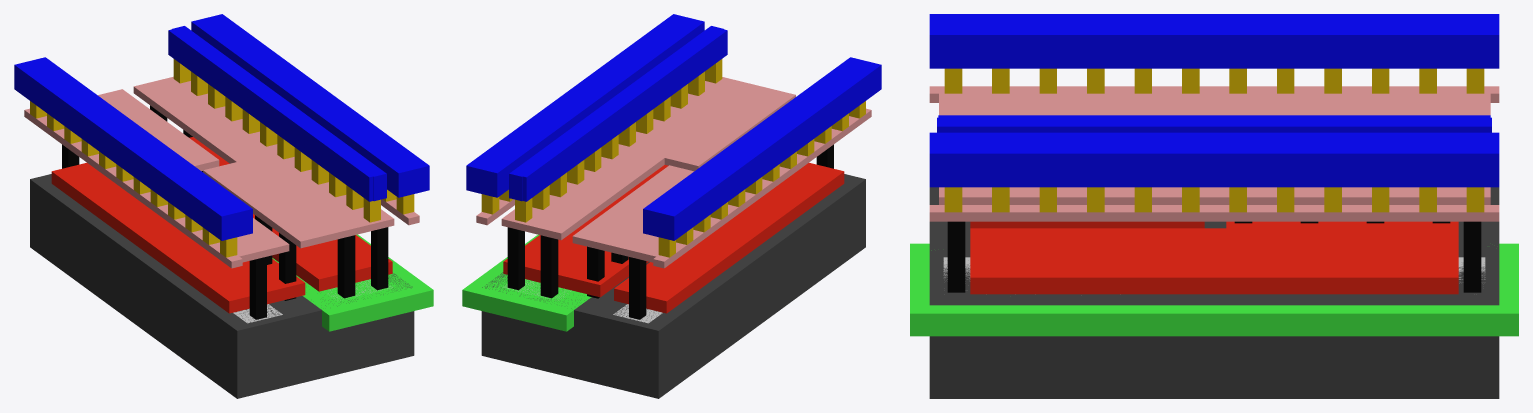
Rendered from sky130_fd_sc_hd__lpflow_decapkapwr_12.obj.
3 renders of one model, left to right at view 1: azimuth 30°, elevation 25°; view 2: azimuth 150°, elevation 25°; view 3: azimuth 270°, elevation 25°, orthographic. The views are drawn at different scales.
Visible parts, largest first — view 1: metal1, subs, li, poly, mcon, licon, nwell; view 2: metal1, subs, li, poly, mcon, nwell, licon; view 3: metal1, subs, poly, li, nwell, mcon, licon.
Part boxes in pixels (box(x1,y1,x2,y2)): metal1: box(14, 14, 429, 240); subs: box(30, 174, 414, 398); li: box(24, 76, 419, 268); poly: box(51, 137, 392, 313); mcon: box(30, 59, 414, 257); licon: box(62, 105, 388, 319); nwell: box(272, 234, 433, 331); metal1: box(466, 14, 881, 240); subs: box(481, 174, 865, 398); li: box(476, 77, 871, 268); poly: box(503, 162, 844, 313); mcon: box(481, 59, 865, 257); nwell: box(462, 234, 591, 331); licon: box(507, 144, 833, 319); metal1: box(929, 14, 1499, 187); subs: box(929, 187, 1499, 398); poly: box(970, 221, 1458, 294); li: box(929, 86, 1499, 221); nwell: box(910, 243, 1518, 336); mcon: box(944, 68, 1484, 212); licon: box(947, 221, 1481, 292).
Bounding box in the file's own units: 3.2 × 2.74 × 5.9.
